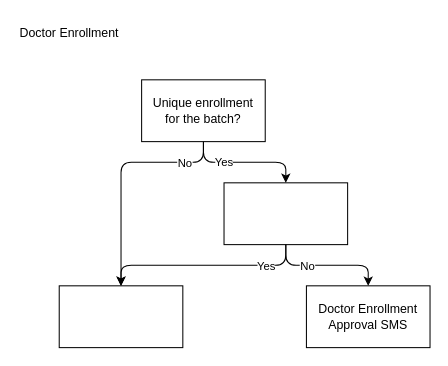
Image size: 448x366. Some labels were removed from this diagram. Here are the shapes that lost their labels. From the top down, the centre of each, then its label:
point 285,213: Doctor is already enrolled?
point 120,316: Doctor Repeat Enrollment SMS
